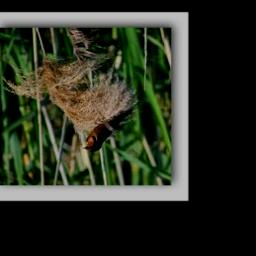Swallow: (80, 105, 138, 154)
